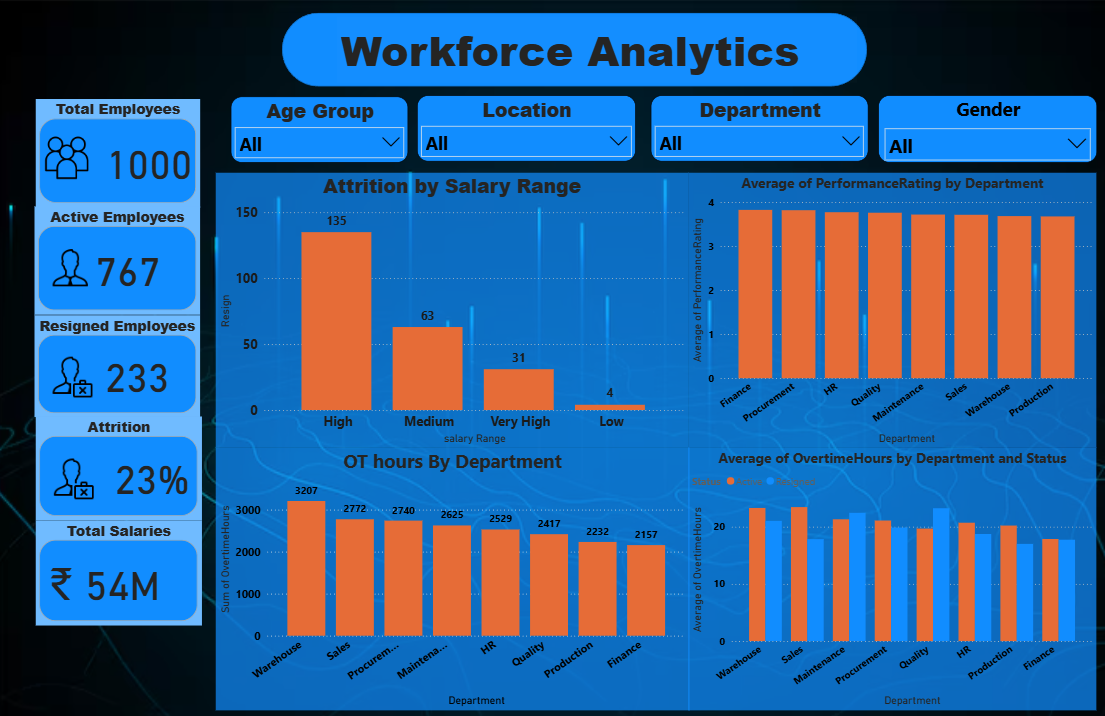

The dashboard page shown, as its layout file describes it:
{"tool":"powerbi","page":{"name":"Page 1","canvas":[1500,982],"ordinal":0},"visuals":[{"type":"slicer","title":"Department","fields":{"Values":["Employees.Department"]},"box":[767.6,69.3,294.2,91.3],"z":0},{"type":"cardVisual","title":"Total Employees","fields":{"Data":["Employees.total employees"]},"box":[50.7,189.4,222.5,146.1],"z":0,"group":"g1"},{"type":"slicer","title":"Gender","fields":{"Values":["Employees.Gender"]},"box":[1137.9,67.6,294.2,93],"z":1000},{"type":"cardVisual","title":"Active Employees","fields":{"Data":["Employees.Active"]},"box":[49,335.5,224.2,146.1],"z":1000,"group":"g1"},{"type":"clusteredColumnChart","title":"Attrition by Salary Range","fields":{"Y":["Employees.Resign"],"Category":["Employees.salary Range"]},"box":[295.9,174.2,639.1,372],"z":2000},{"type":"cardVisual","title":"Attrition","fields":{"Data":["Employees.Attirition"]},"box":[51.3,619.5,224.9,140.3],"z":2000,"group":"g1"},{"type":"cardVisual","title":"Resigned Employees","fields":{"Data":["Employees.Resign"]},"box":[49,481.5,224.2,137.6],"z":3000,"group":"g1"},{"type":"clusteredColumnChart","title":"OT hours By Department","fields":{"Category":["Employees.Department"],"Y":["select","Sum(Employees.OvertimeHours)"]},"box":[295.9,546.1,639.1,355.1],"z":3000},{"type":"clusteredColumnChart","fields":{"Category":["Employees.Department"],"Y":["Avg(Employees.PerformanceRating)"]},"box":[935,174.2,552.9,372],"z":4000},{"type":"clusteredColumnChart","fields":{"Category":["Employees.Department"],"Y":["Avg(Employees.OvertimeHours)"],"Series":["Employees.Status"]},"box":[935,546.1,552.9,355.1],"z":5000},{"type":"group","id":"g1","title":"Group 1","box":[49,189.4,226.6,711.8],"z":6000},{"type":"slicer","title":"Location","fields":{"Values":["Employees.Location"]},"box":[427.8,69.3,294.2,91.3],"z":7000},{"type":"slicer","title":"Age Group","fields":{"Values":["Employees.age group"]},"box":[99.8,67.6,294.2,91.3],"z":8000},{"type":"cardVisual","title":"Total Salaries","fields":{"Data":["Employees.Total Salary"]},"box":[51.3,759.8,224.9,142],"z":10001,"group":"g1"}]}

Visuals, with their boxes in screenshot pixels (x1, y1, x2, y2), scaled from the page's 1500x982 canvas onto the 1105x716 screenshot:
"Department" slicer: crop(565, 51, 782, 117)
"Total Employees" cardVisual: crop(37, 138, 201, 245)
"Gender" slicer: crop(838, 49, 1055, 117)
"Active Employees" cardVisual: crop(36, 245, 201, 351)
"Attrition by Salary Range" clusteredColumnChart: crop(218, 127, 689, 398)
"Attrition" cardVisual: crop(38, 452, 203, 554)
"Resigned Employees" cardVisual: crop(36, 351, 201, 451)
"OT hours By Department" clusteredColumnChart: crop(218, 398, 689, 657)
clusteredColumnChart - Employees.Department x Avg(Employees.PerformanceRating): crop(689, 127, 1096, 398)
clusteredColumnChart - Employees.Department x Avg(Employees.OvertimeHours): crop(689, 398, 1096, 657)
"Group 1" group: crop(36, 138, 203, 657)
"Location" slicer: crop(315, 51, 532, 117)
"Age Group" slicer: crop(74, 49, 290, 116)
"Total Salaries" cardVisual: crop(38, 554, 203, 658)
